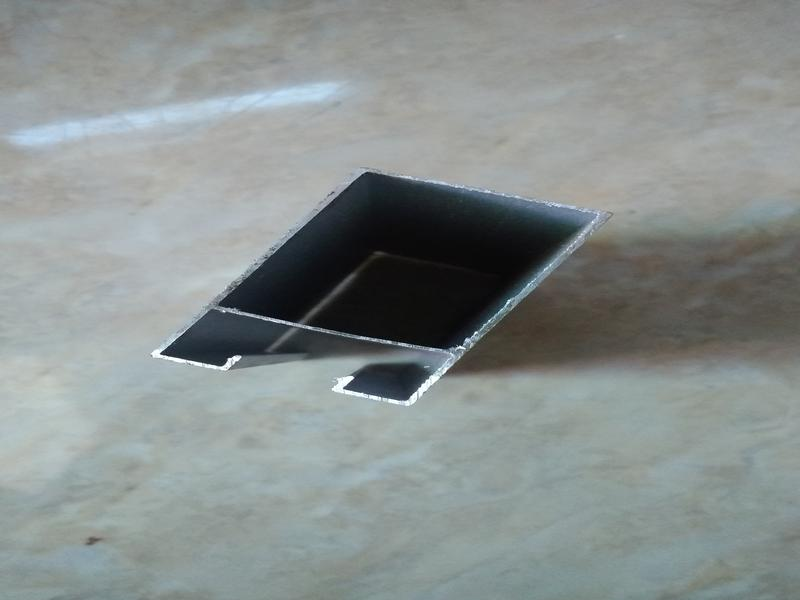Aluminium_1: (141, 133, 632, 433)
